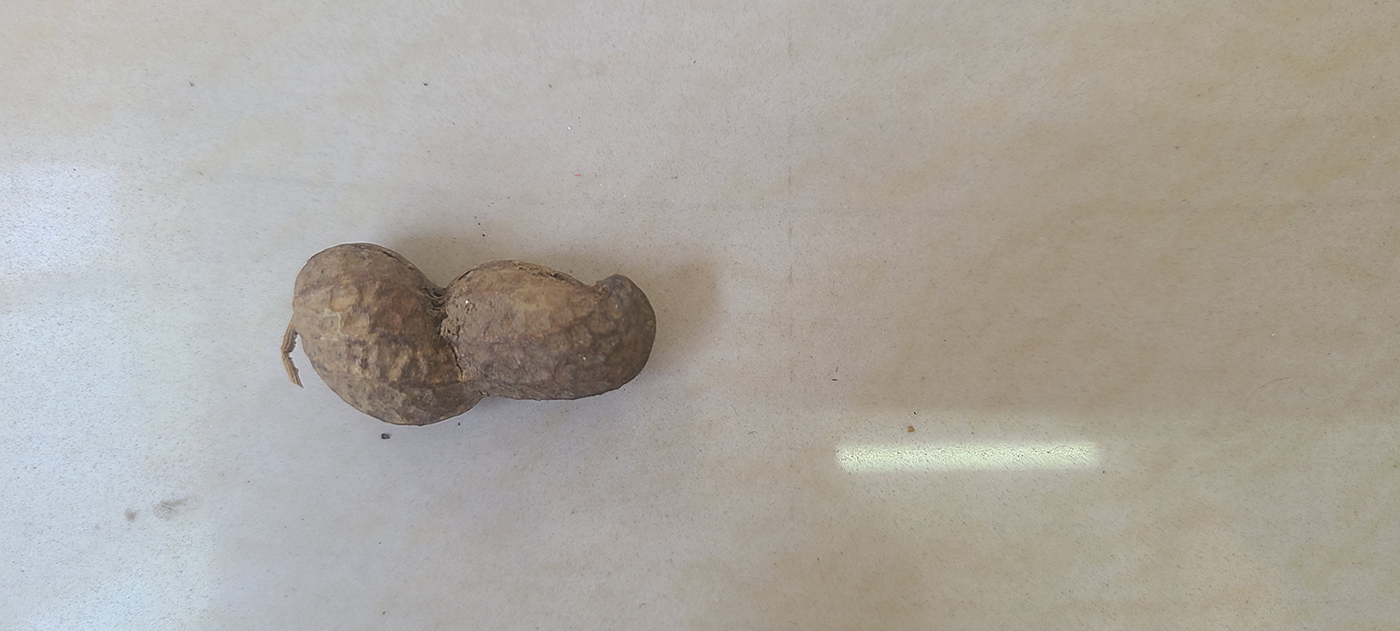l: (281, 242, 661, 430)
